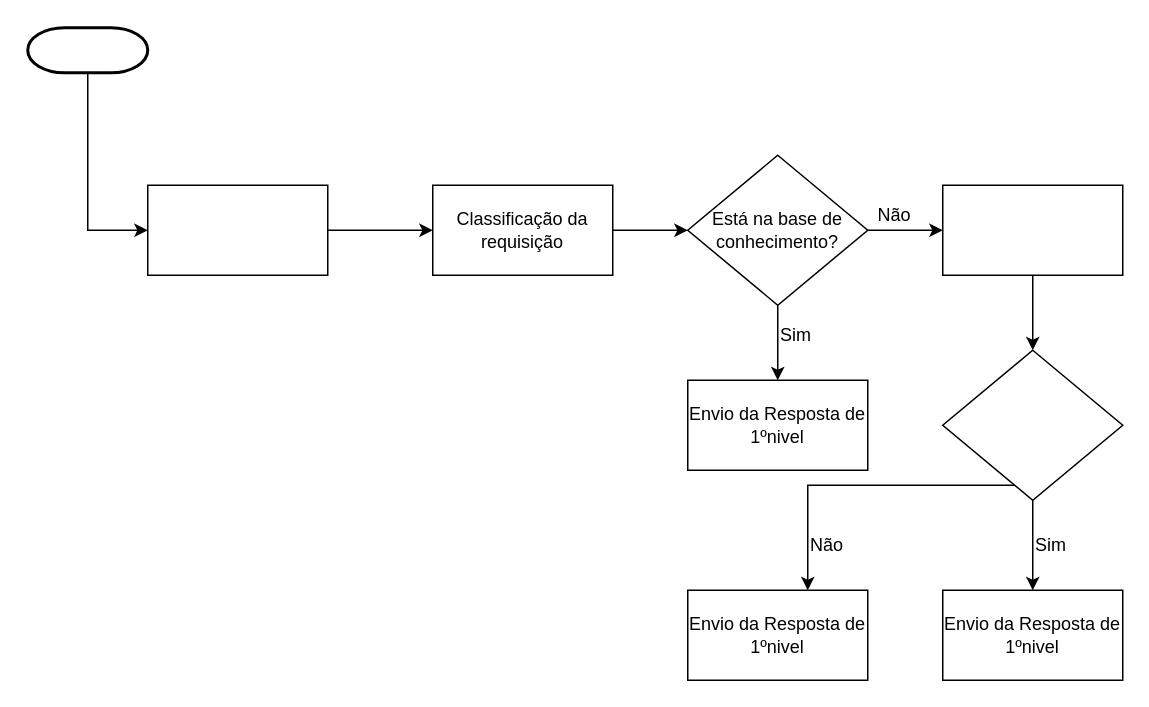
This 1149x707 diagram has some shape labels left out. Here are the shapes that lost their labels. From the top down, the box of each, then its label:
(146, 184, 328, 275): Detalhamento da requisição
(941, 184, 1123, 275): Analisa e prioriza
(941, 349, 1123, 500): Prioridade?
